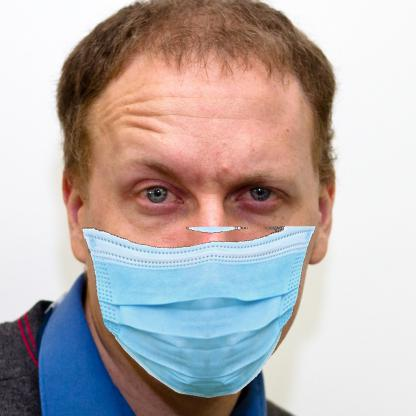Correctly_Masked: (82, 70, 320, 397)
